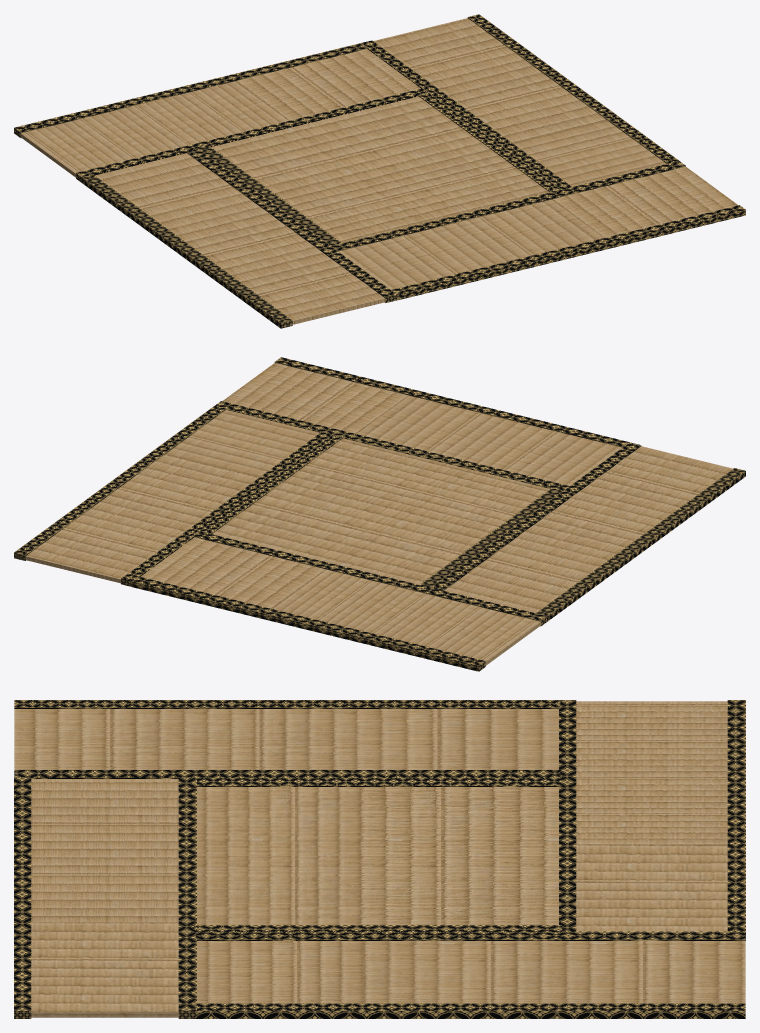
The model's file is tatami.fbx.
3 renders of one model, top to bottom at view 1: azimuth 30°, elevation 25°; view 2: azimuth 150°, elevation 25°; view 3: azimuth 270°, elevation 25°, orthographic. The views are drawn at different scales.
Parts seen in each view (by area): view 1: pasted__pasted__pCube34; view 2: pasted__pasted__pCube34; view 3: pasted__pasted__pCube34.
Boxes of the visible parts, left/top/right/bottom form: pasted__pasted__pCube34: left=14, top=14, right=745, bottom=328; pasted__pasted__pCube34: left=14, top=357, right=745, bottom=671; pasted__pasted__pCube34: left=14, top=700, right=745, bottom=1018.
Size of the model in its own units: 83.13 by 0.9801 by 82.66.
Materials: 3 (2 with a texture image).
